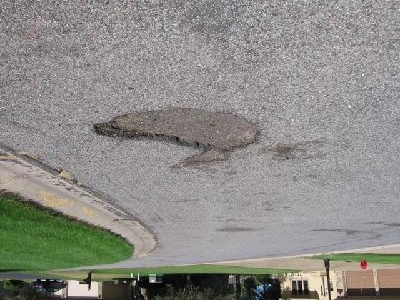pothole: (91, 106, 263, 153), (176, 149, 228, 168), (269, 142, 293, 155)
